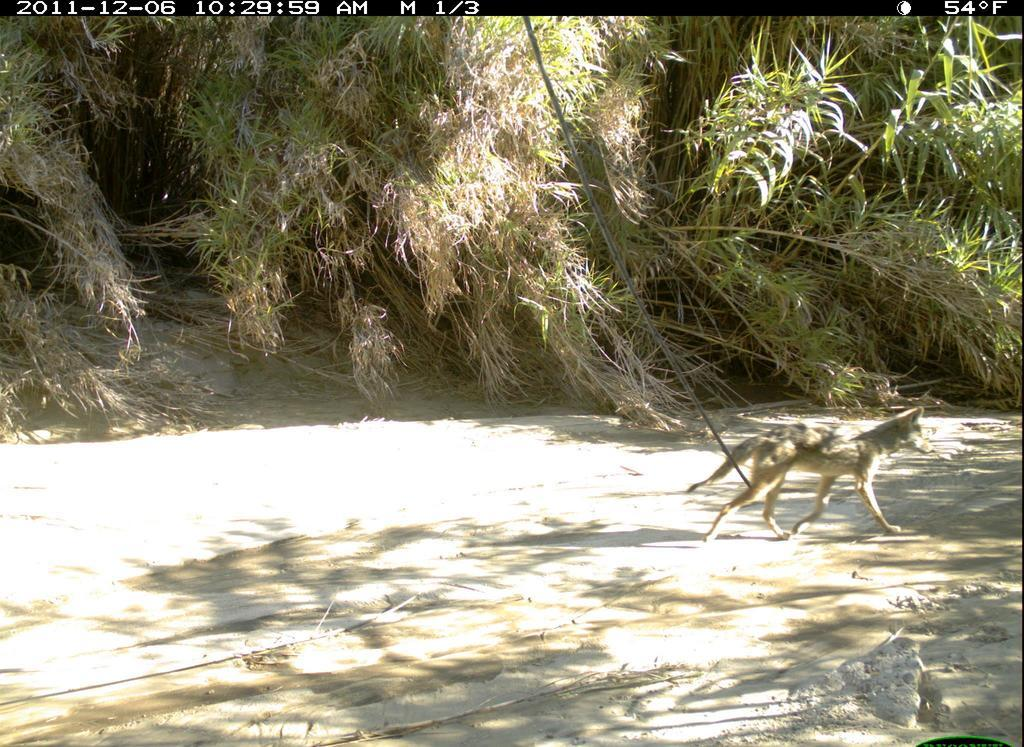coyote: (685, 395, 952, 565)
